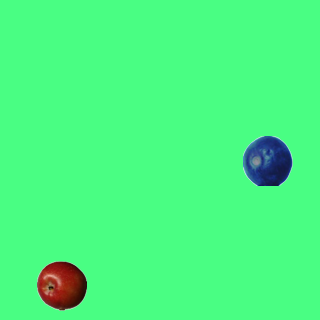Apple Braeburn: (36, 260, 86, 310)
Huckleberry: (242, 135, 292, 185)
